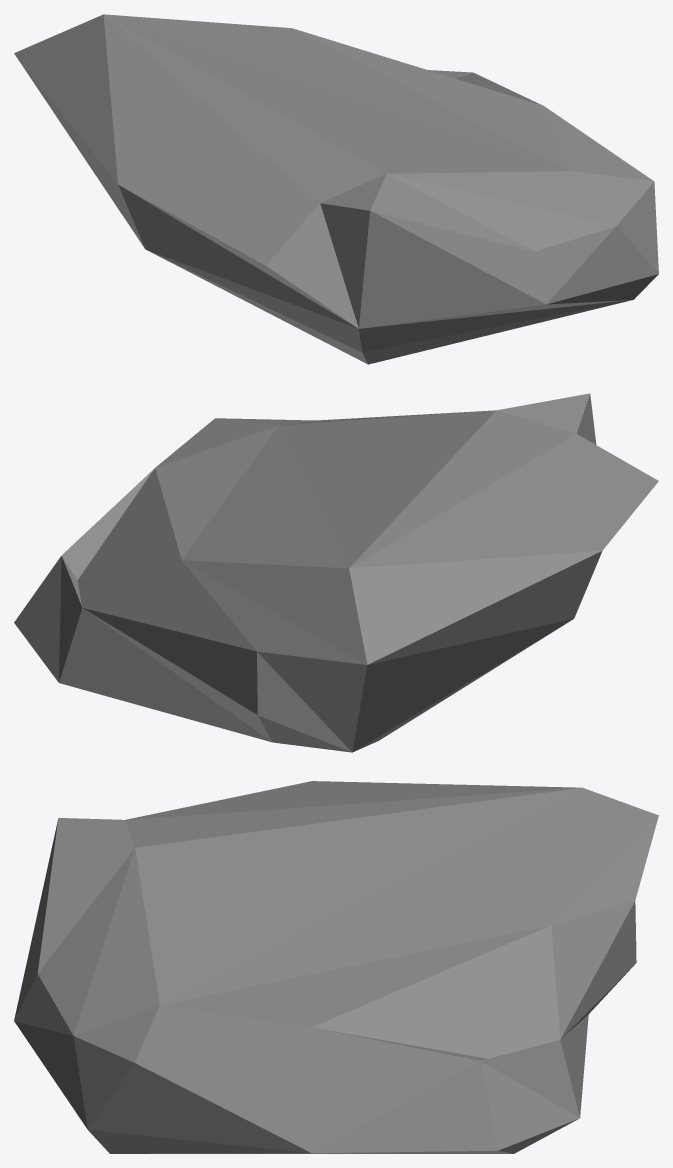
File: rock_01_e.fbx
The picture shows the model from 3 angles, top to bottom: view 1: azimuth 30°, elevation 25°; view 2: azimuth 150°, elevation 25°; view 3: azimuth 270°, elevation 25°; orthographic projection. The views are drawn at different scales.
Parts seen in each view (by area): view 1: Rock_01_e; view 2: Rock_01_e; view 3: Rock_01_e.
Part boxes in pixels (<box>): Rock_01_e: <box>14,14,658,364</box>; Rock_01_e: <box>14,393,658,752</box>; Rock_01_e: <box>14,781,658,1153</box>.
Size of the model in its own units: 24.44 by 26.51 by 9.68.
